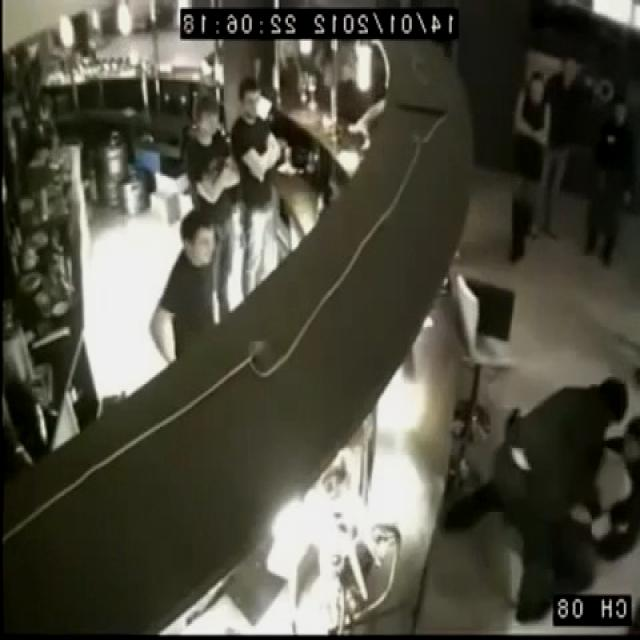fight: (449, 375, 640, 622)
